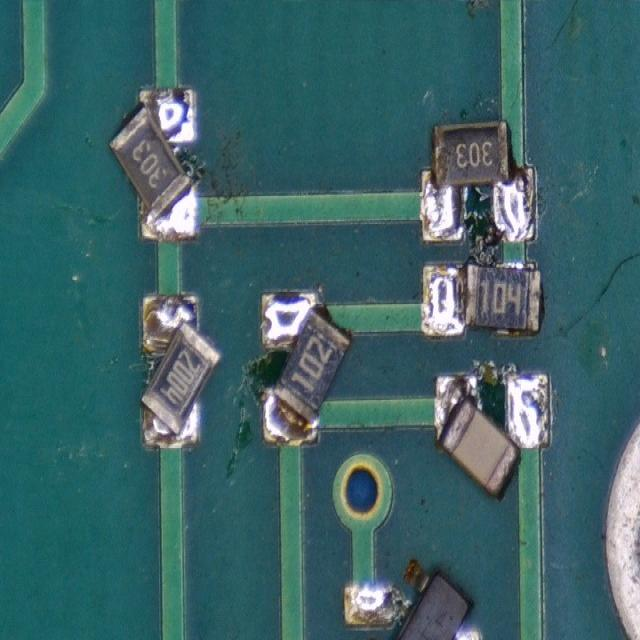Incorrect_installation: (435, 373, 549, 501), (420, 120, 536, 245), (260, 292, 353, 445), (108, 88, 199, 241), (139, 294, 223, 448), (343, 561, 481, 640), (422, 261, 542, 338)
